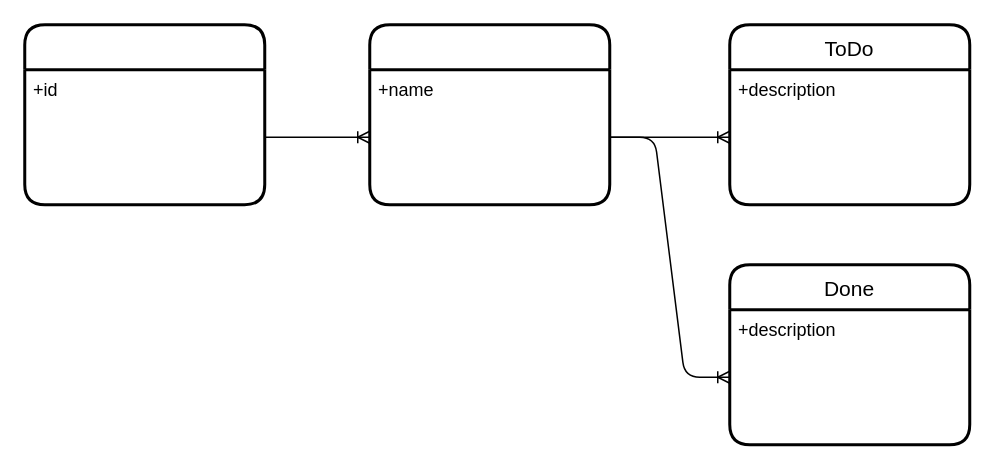
The diagram is 995 pixels wide and 470 high, and some of its shapes have lost their labels. The shapes that lost their labels are listed below. From the top down, each one's box as (x1, y1, x2, y2) in pixels, then its label:
(22, 22, 266, 206): Employee
(368, 22, 610, 206): TaskList
